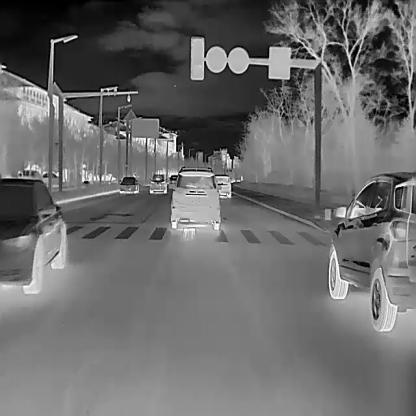car: (328, 172, 416, 330), (0, 177, 66, 293), (170, 165, 220, 229), (214, 173, 231, 197), (148, 172, 166, 192), (119, 174, 138, 192), (18, 167, 42, 176), (42, 172, 58, 184), (168, 173, 178, 187)
